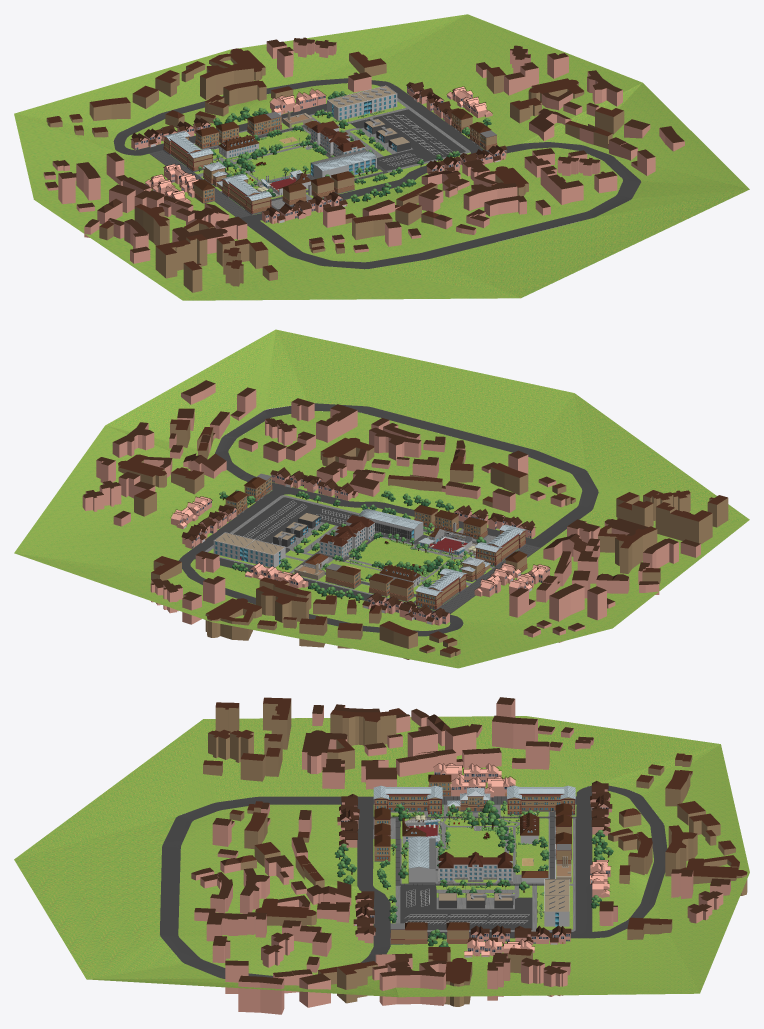
3 renders of one model, top to bottom at view 1: azimuth 30°, elevation 25°; view 2: azimuth 150°, elevation 25°; view 3: azimuth 270°, elevation 25°, orthographic. The views are drawn at different scales.
Visible parts, largest first — view 1: Ground.002, Blocks.002, Blocks.004, CampusBuildings.005, CityBuildings.002, CityBuildings.003, CityBuildings.008, CityBuildings.004, Studentenwohnheim.002, CampusBuildings.002, BeegBuilding.002, Main.002 (+2 smaller); view 2: Ground.002, Blocks.002, Blocks.004, CampusBuildings.005, CityBuildings.008, CityBuildings.004, CityBuildings.003, CityBuildings.002, Studentenwohnheim.002, CampusBuildings.002, Main.002, BeegBuilding.002 (+2 smaller); view 3: Ground.002, Blocks.002, Blocks.004, CampusBuildings.005, CityBuildings.003, CityBuildings.002, CityBuildings.004, Main.002, CityBuildings.008, Trees.002, CampusBuildings.004, BeegBuilding.002 (+3 smaller).
Boxes of the visible parts, <box> form: Ground.002: <box>14,14,749,300</box>; Blocks.002: <box>43,37,684,263</box>; Blocks.004: <box>46,48,624,292</box>; CampusBuildings.005: <box>149,131,379,217</box>; CityBuildings.002: <box>163,163,347,223</box>; CityBuildings.003: <box>269,82,458,125</box>; CityBuildings.008: <box>426,86,507,174</box>; CityBuildings.004: <box>130,117,211,203</box>; Studentenwohnheim.002: <box>327,85,397,120</box>; CampusBuildings.002: <box>195,112,282,149</box>; BeegBuilding.002: <box>310,149,376,178</box>; Main.002: <box>311,121,365,155</box>; Ground.002: <box>14,329,749,668</box>; Blocks.002: <box>82,380,700,642</box>; Blocks.004: <box>118,419,728,659</box>; CampusBuildings.005: <box>379,505,540,613</box>; CityBuildings.008: <box>170,467,358,529</box>; CityBuildings.004: <box>362,564,550,625</box>; CityBuildings.003: <box>181,504,308,588</box>; CityBuildings.002: <box>453,505,535,597</box>; Studentenwohnheim.002: <box>213,532,285,567</box>; CampusBuildings.002: <box>325,563,414,601</box>; Main.002: <box>319,515,374,557</box>; BeegBuilding.002: <box>358,508,423,543</box>; Ground.002: <box>14,716,749,997</box>; Blocks.002: <box>191,697,730,1014</box>; Blocks.004: <box>203,697,747,1006</box>; CampusBuildings.005: <box>373,774,576,883</box>; CityBuildings.003: <box>468,860,611,945</box>; CityBuildings.002: <box>337,776,515,847</box>; CityBuildings.004: <box>433,763,612,835</box>; Main.002: <box>438,851,512,880</box>; CityBuildings.008: <box>353,891,534,957</box>; Trees.002: <box>391,800,539,855</box>; CampusBuildings.004: <box>390,922,469,944</box>; BeegBuilding.002: <box>408,836,435,882</box>.
Bounding box in the file's own units: 527 × 41.17 × 533.
17 materials, 14 textured.
